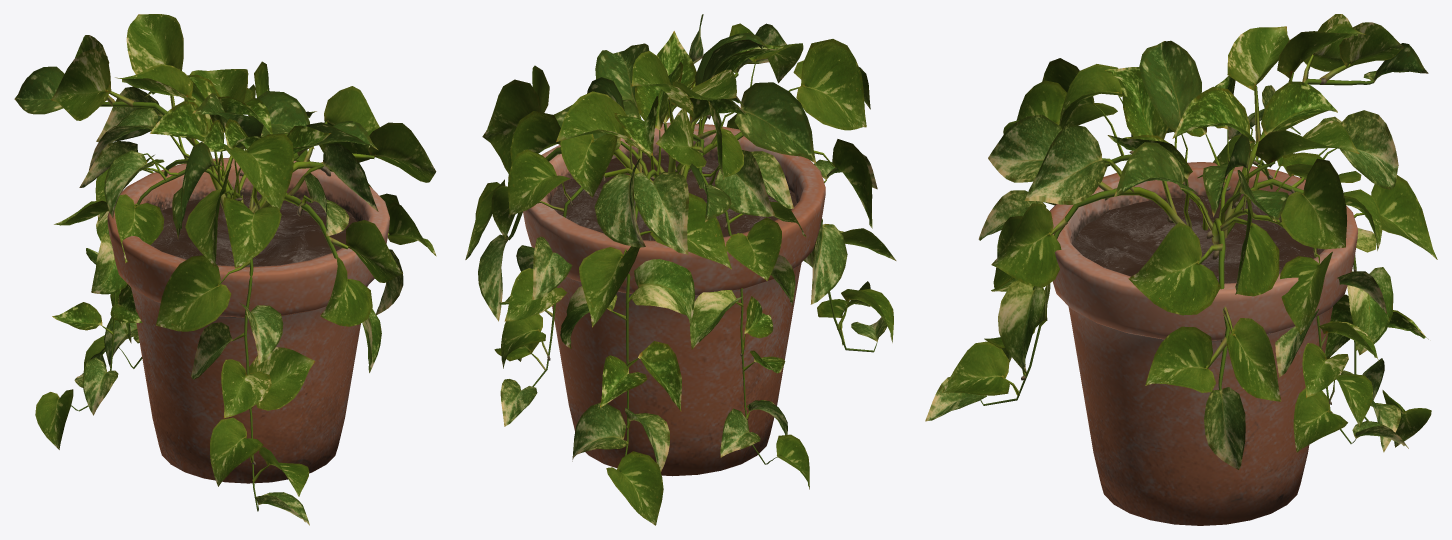
Rendered from PotosPlant.fbx.
3 views of the same model, side by side, from view 1: azimuth 30°, elevation 25°; view 2: azimuth 150°, elevation 25°; view 3: azimuth 270°, elevation 25° (orthographic). The views are drawn at different scales.
Parts seen in each view (by area): view 1: Potos; view 2: Potos; view 3: Potos.
Part boxes in pixels (x1,y1,x2,y2): Potos: [14, 14, 436, 525]; Potos: [465, 14, 896, 525]; Potos: [925, 14, 1437, 525].
Size of the model in its own units: 0.4439 by 0.5232 by 0.5017.
3 materials, 3 textured.
